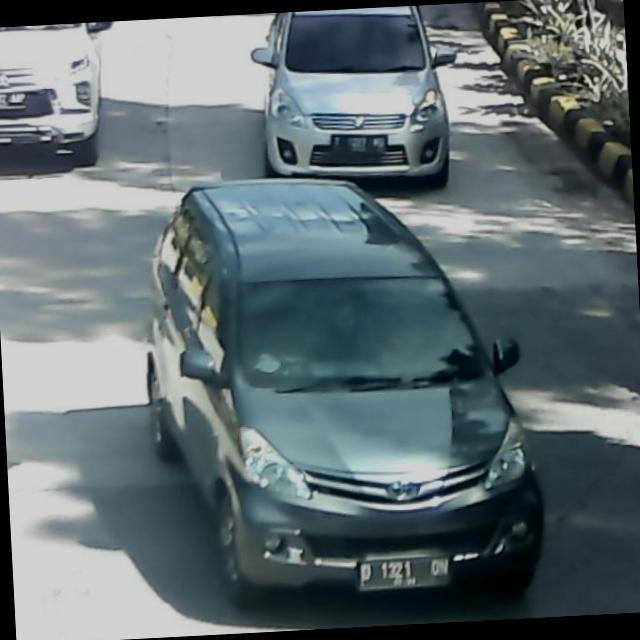plate: (356, 554, 457, 594)
